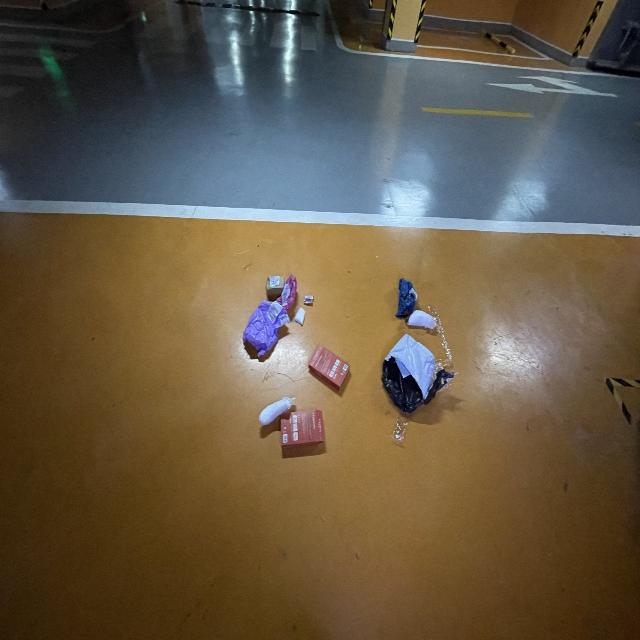garbage: (240, 269, 457, 451)
